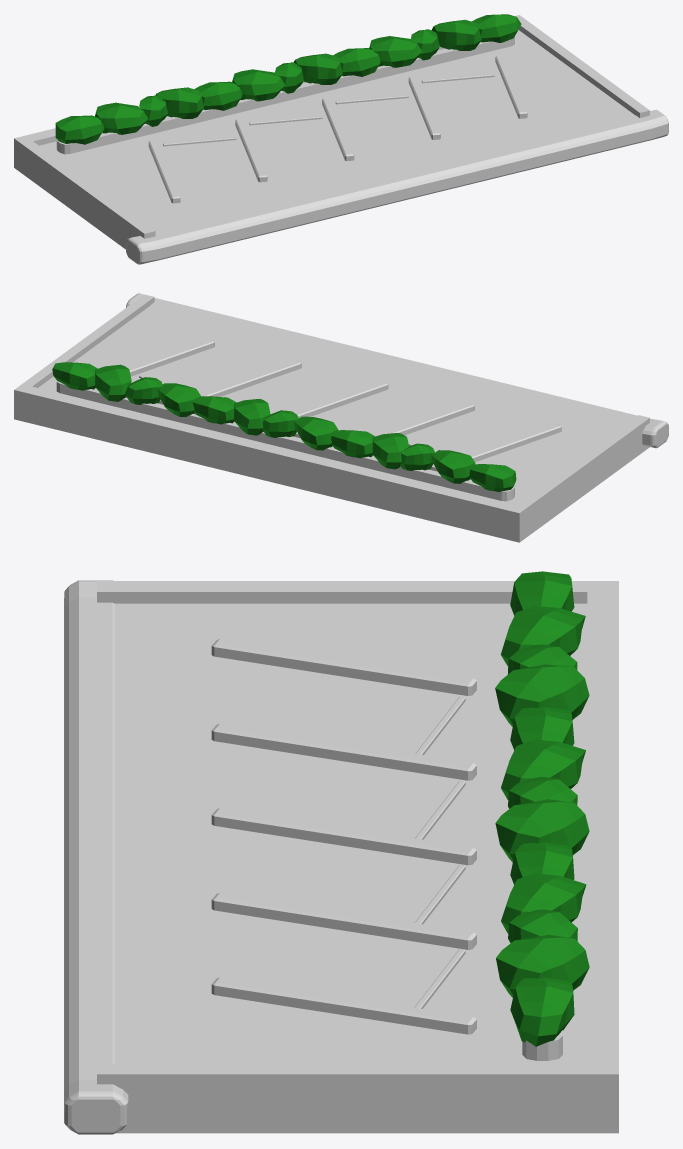
The model's file is baseLevel.glb.
3 views of the same model, one above another, from view 1: azimuth 30°, elevation 25°; view 2: azimuth 150°, elevation 25°; view 3: azimuth 270°, elevation 25° (orthographic). The views are drawn at different scales.
Visible parts, largest first — view 1: Plane.001, Cube.002, Cube.009, Cube.003, Cube, Cube.001; view 2: Plane.001, Cube.009, Cube.002, Cube, Cube.003; view 3: Plane.001, Cube.009, Cube.002, Cube, Cube.001.
Boxes of the visible parts, <box> form: Plane.001: <box>14,15,649,249</box>; Cube.002: <box>126,109,668,264</box>; Cube.009: <box>55,14,521,144</box>; Cube.003: <box>56,36,514,154</box>; Cube: <box>148,55,527,203</box>; Cube.001: <box>163,74,494,146</box>; Plane.001: <box>14,294,649,542</box>; Cube.009: <box>52,362,516,491</box>; Cube.002: <box>126,293,668,448</box>; Cube: <box>128,339,561,462</box>; Cube.003: <box>56,381,514,501</box>; Plane.001: <box>97,581,618,1133</box>; Cube.009: <box>495,571,589,1046</box>; Cube.002: <box>64,580,128,1134</box>; Cube: <box>211,639,476,1034</box>; Cube.001: <box>414,696,465,1008</box>.
Size of the model in its own units: 12.44 by 1.28 by 5.64.
